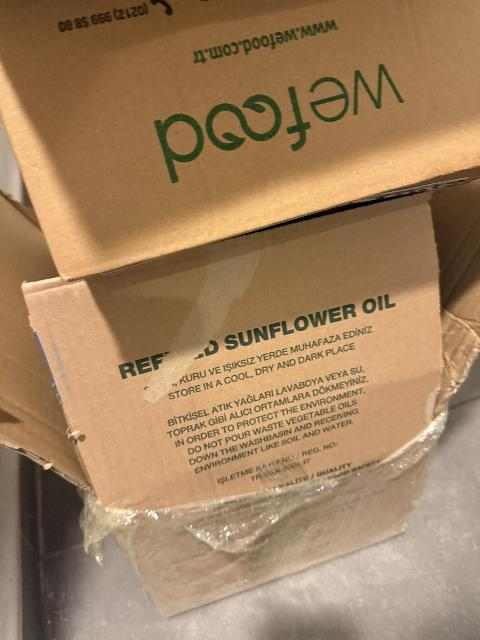Kagit: (0, 194, 478, 616), (2, 0, 480, 285)
